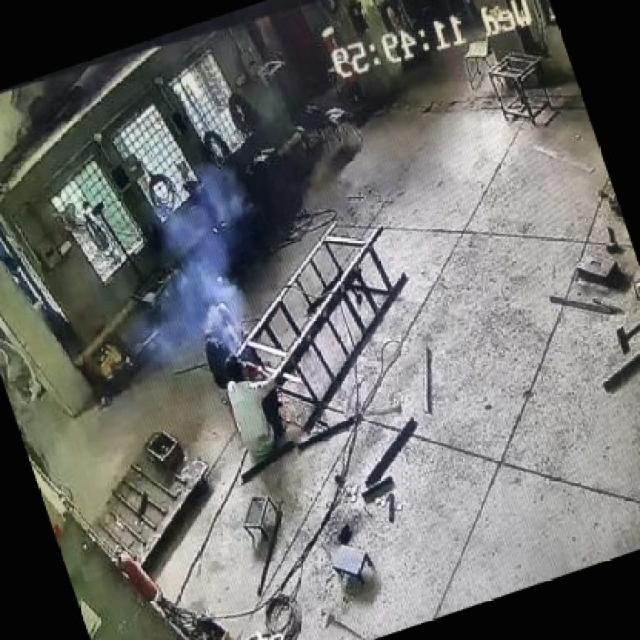smoke: (117, 162, 280, 366)
